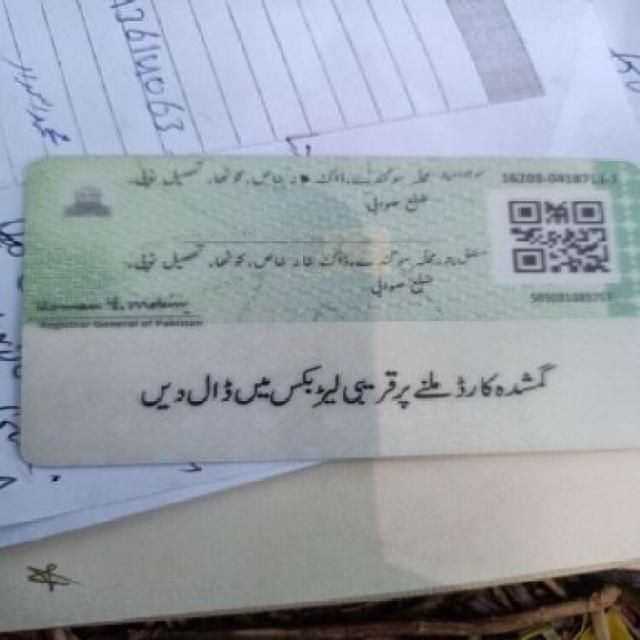Back: (15, 152, 632, 460)
